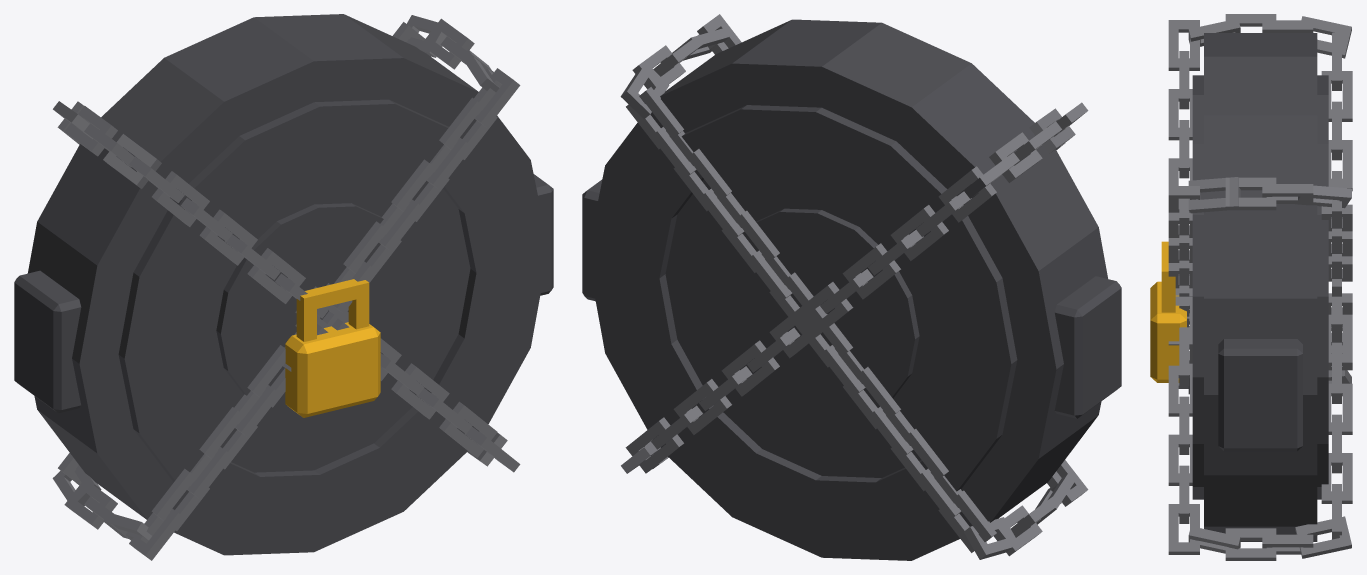
Rendered from TrainingVault_Split.fbx.
The picture shows the model from 3 angles, left to right: view 1: azimuth 30°, elevation 25°; view 2: azimuth 150°, elevation 25°; view 3: azimuth 270°, elevation 25°; orthographic projection. The views are drawn at different scales.
Parts seen in each view (by area): view 1: VaultDoor_L, VaultDoor_R, VaultDoor_Chains_L, VaultDoor_Chains_R, VaultDoor_Lock_L, VaultDoor_Lock_R; view 2: VaultDoor_L, VaultDoor_R, VaultDoor_Chains_L, VaultDoor_Chains_R; view 3: VaultDoor_R, VaultDoor_Chains_R, VaultDoor_Chains_L, VaultDoor_L, VaultDoor_Lock_R, VaultDoor_Lock_L.
Part boxes in pixels (left/top/right/bottom): VaultDoor_L: left=14, top=17, right=319, bottom=555; VaultDoor_R: left=254, top=14, right=553, bottom=551; VaultDoor_Chains_L: left=52, top=101, right=328, bottom=560; VaultDoor_Chains_R: left=322, top=15, right=520, bottom=472; VaultDoor_Lock_L: left=285, top=285, right=342, bottom=417; VaultDoor_Lock_R: left=327, top=279, right=380, bottom=409; VaultDoor_L: left=816, top=23, right=1121, bottom=560; VaultDoor_R: left=582, top=19, right=881, bottom=557; VaultDoor_Chains_L: left=808, top=102, right=1088, bottom=559; VaultDoor_Chains_R: left=620, top=14, right=813, bottom=473; VaultDoor_R: left=1192, top=56, right=1328, bottom=541; VaultDoor_Chains_R: left=1168, top=177, right=1352, bottom=560; VaultDoor_Chains_L: left=1168, top=14, right=1352, bottom=394; VaultDoor_L: left=1192, top=33, right=1328, bottom=94; VaultDoor_Lock_R: left=1150, top=256, right=1186, bottom=382; VaultDoor_Lock_L: left=1150, top=241, right=1178, bottom=303.
Size of the model in its own units: 3.84 by 3.6 by 1.43.
